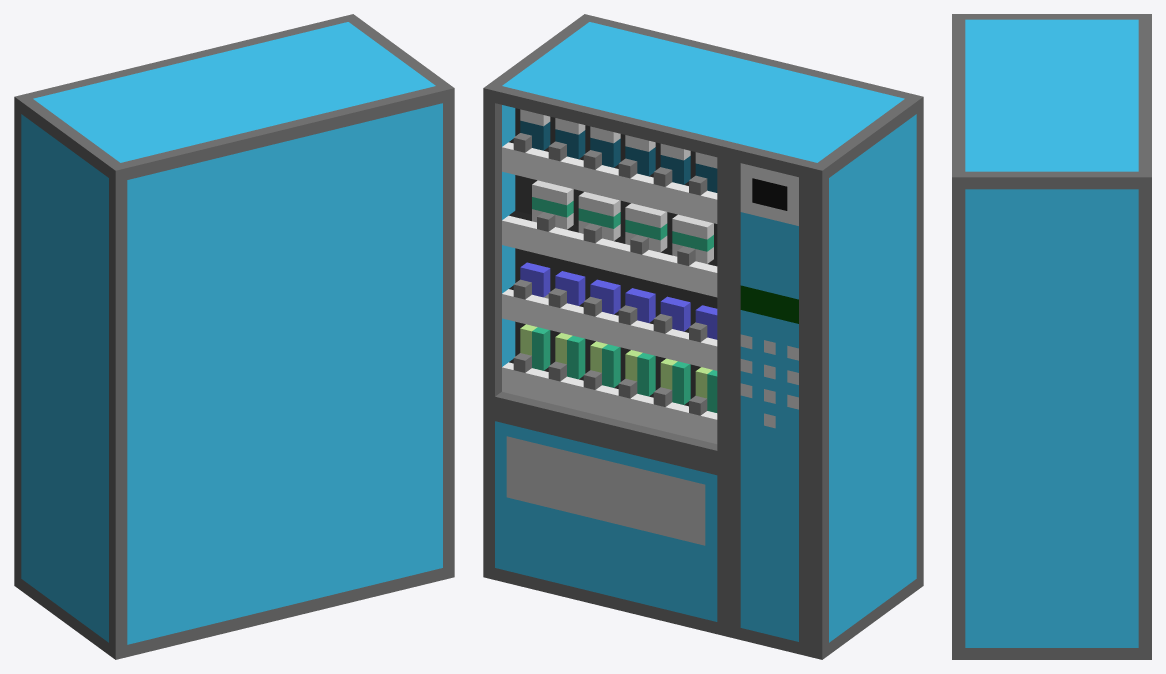
The model's file is vending_machine.glb.
3 views of the same model, side by side, from view 1: azimuth 30°, elevation 25°; view 2: azimuth 150°, elevation 25°; view 3: azimuth 270°, elevation 25° (orthographic).
Parts seen in each view (by area): view 1: Object_2; view 2: Object_2; view 3: Object_2.
Boxes of the visible parts, box(x1,y1,x2,y2) form: Object_2: box(14, 14, 454, 659); Object_2: box(483, 14, 923, 659); Object_2: box(952, 14, 1151, 659).
Bounding box in the file's own units: 29 × 40 × 15.
1 material, 1 textured.
